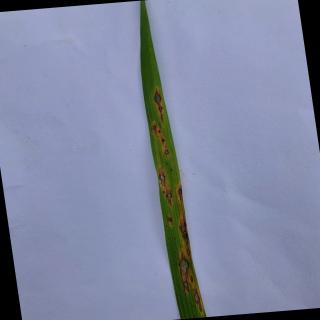Blast: (154, 88, 164, 124), (179, 219, 190, 245), (178, 256, 190, 274), (164, 188, 174, 206), (158, 166, 167, 186), (177, 184, 183, 202), (182, 280, 190, 292), (193, 290, 200, 303), (166, 216, 174, 226), (163, 149, 170, 157), (160, 136, 166, 144), (189, 275, 195, 283), (157, 128, 163, 135), (153, 125, 157, 134), (186, 248, 190, 256)
